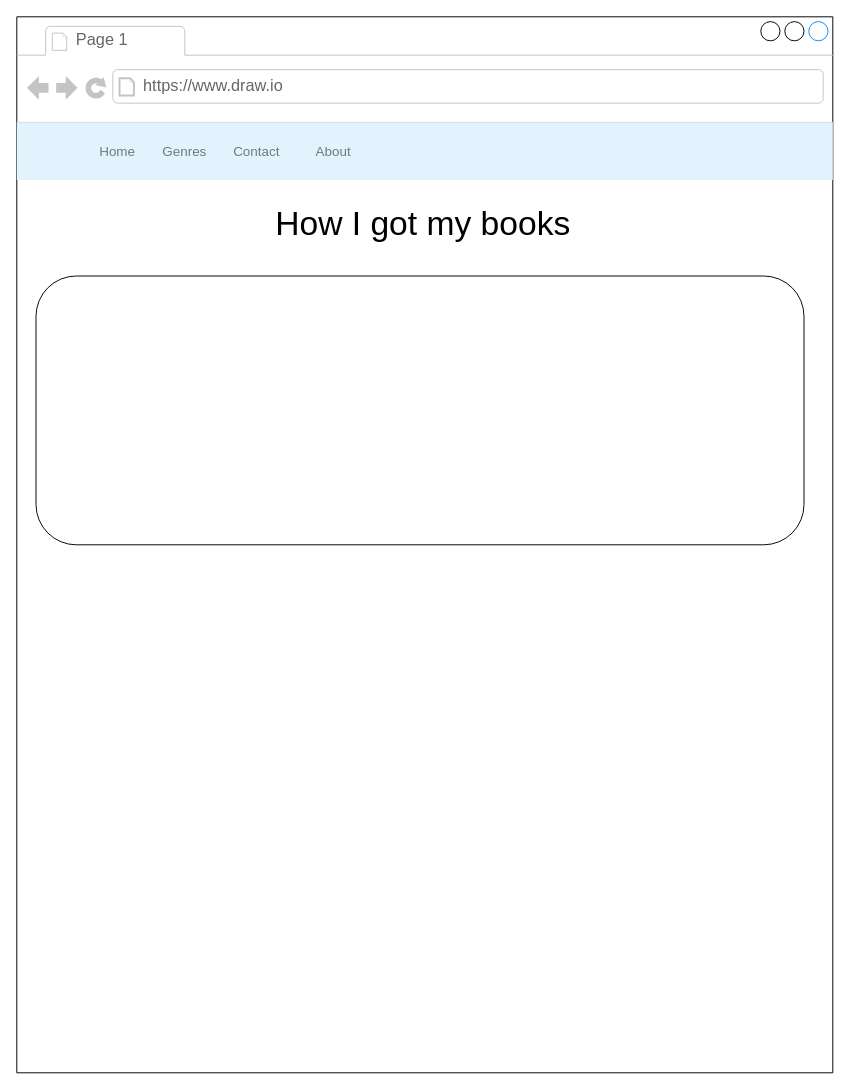
Some shapes in this 850 by 1090 pixel diagram are drawn without their labels. Each missing label, with the centre of its shape:
Navbar: the point at 424,151
The story: the point at 419,410
